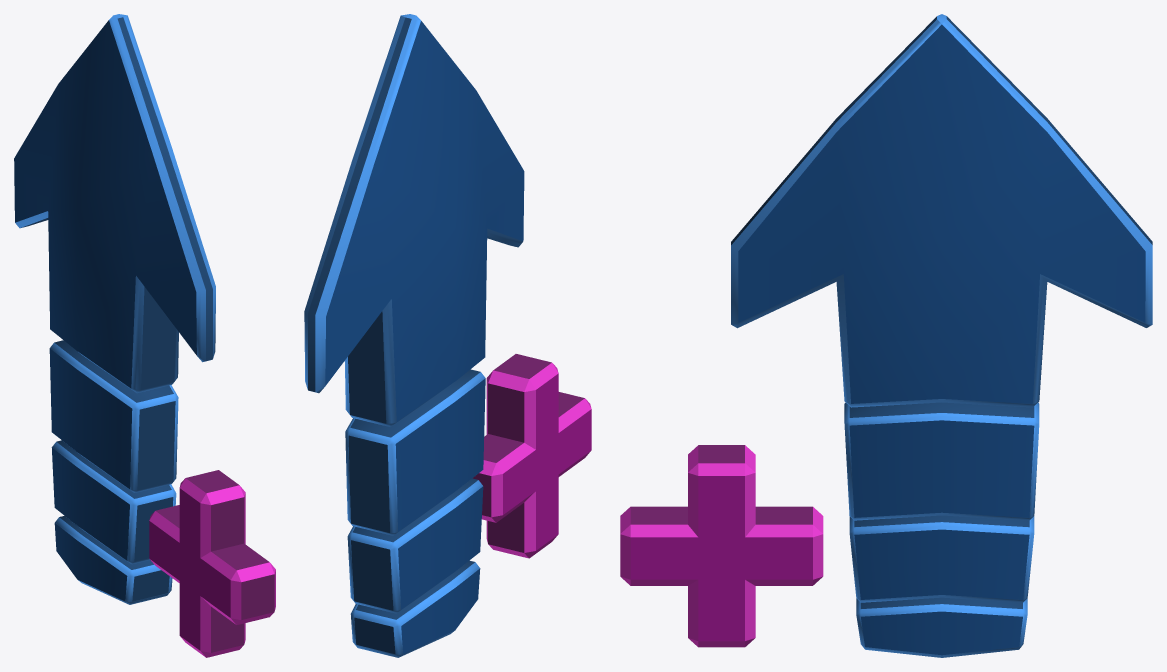
File: Jump.FBX
3 views of the same model, side by side, from view 1: azimuth 30°, elevation 25°; view 2: azimuth 150°, elevation 25°; view 3: azimuth 270°, elevation 25° (orthographic). The views are drawn at different scales.
Visible parts, largest first — view 1: Plane015, Plane016; view 2: Plane015, Plane016; view 3: Plane015, Plane016.
Part boxes in pixels (x1,y1,x2,y2): Plane015: [14, 14, 215, 604]; Plane016: [149, 470, 275, 657]; Plane015: [304, 14, 524, 657]; Plane016: [472, 354, 591, 558]; Plane015: [731, 14, 1152, 657]; Plane016: [620, 445, 823, 647].
Size of the model in its own units: 8.88 by 62.6 by 48.41.
